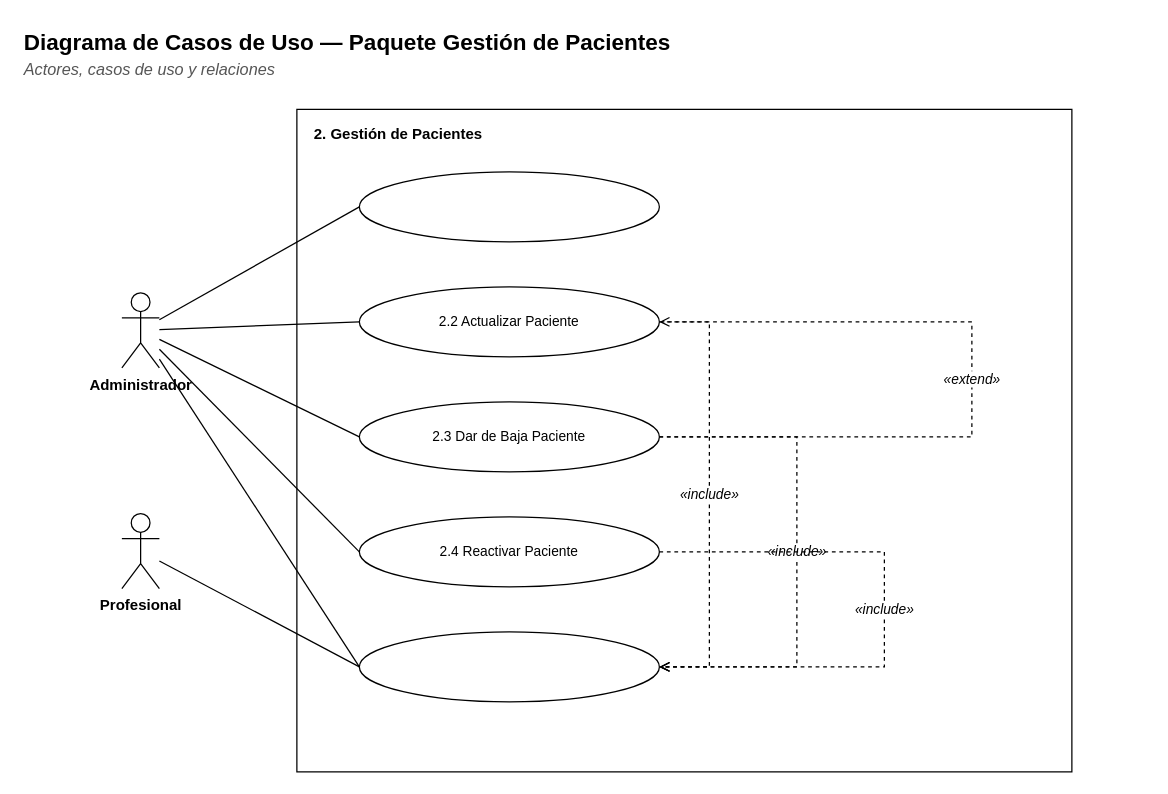
Some shapes in this 1168 by 794 pixel diagram are drawn without their labels. The centre of each missing label's shape, as x and y in pixels:
2.1 Registrar Paciente: point (508, 206)
2.5 Buscar Paciente: point (508, 666)
